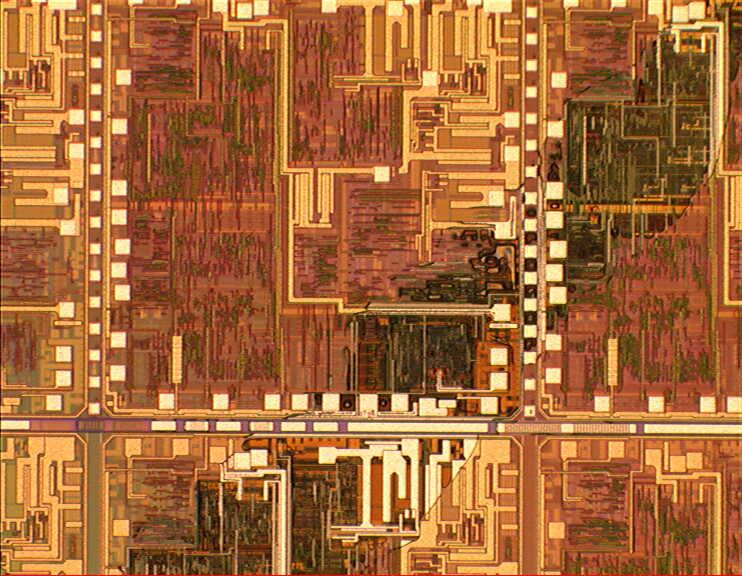COATING BAD: (124, 1, 742, 576)
